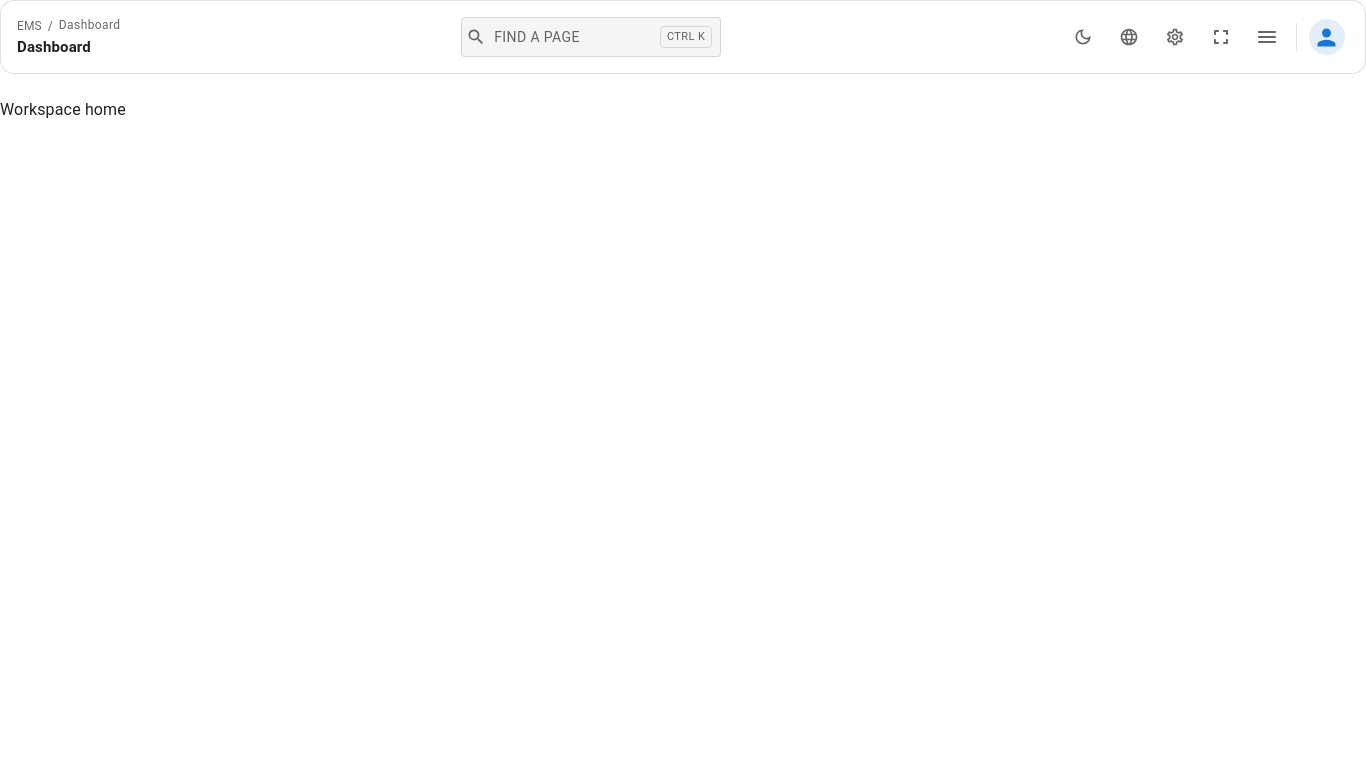
keyboard search filters real pages and navigates to the selected destination
Press k
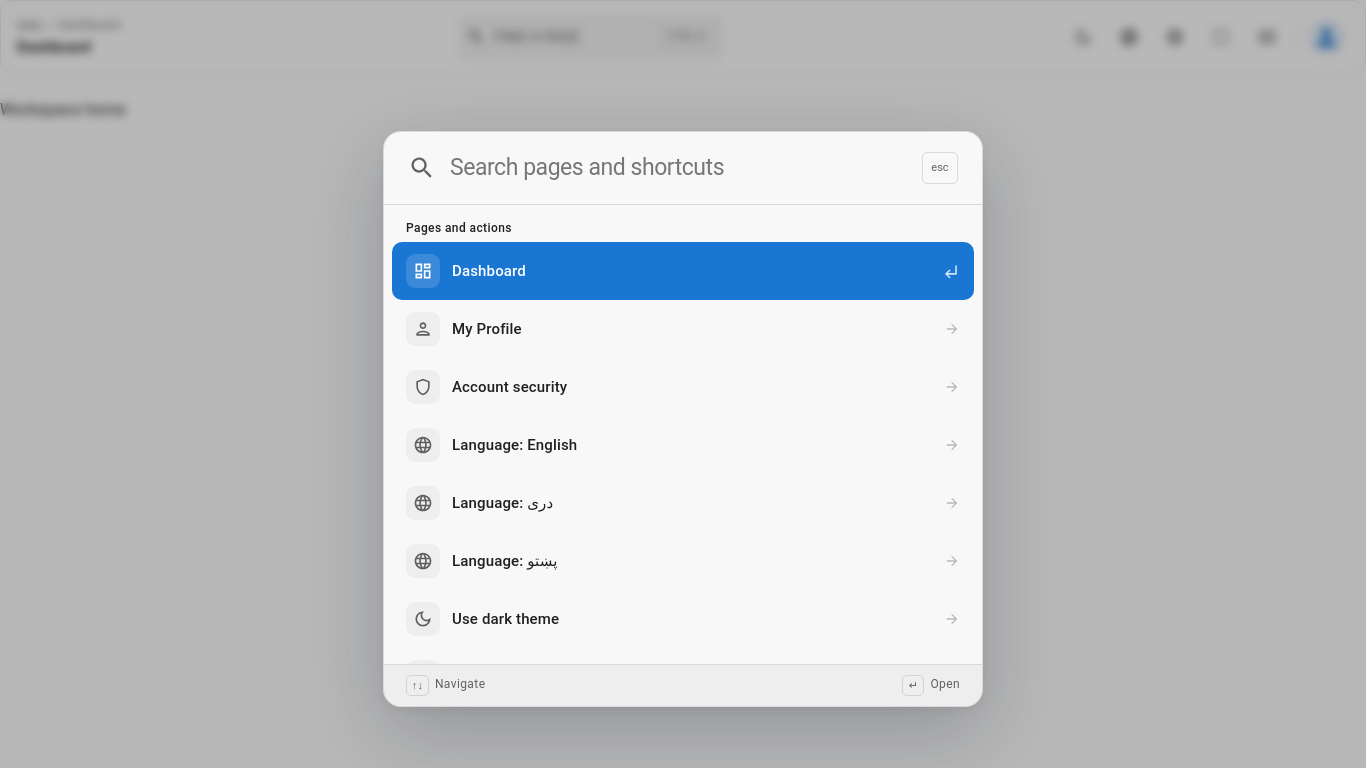
Type "nothing-matches" into the dropdown labelled "Search pages and shortcuts" at (679,168), box [450, 150, 908, 186]
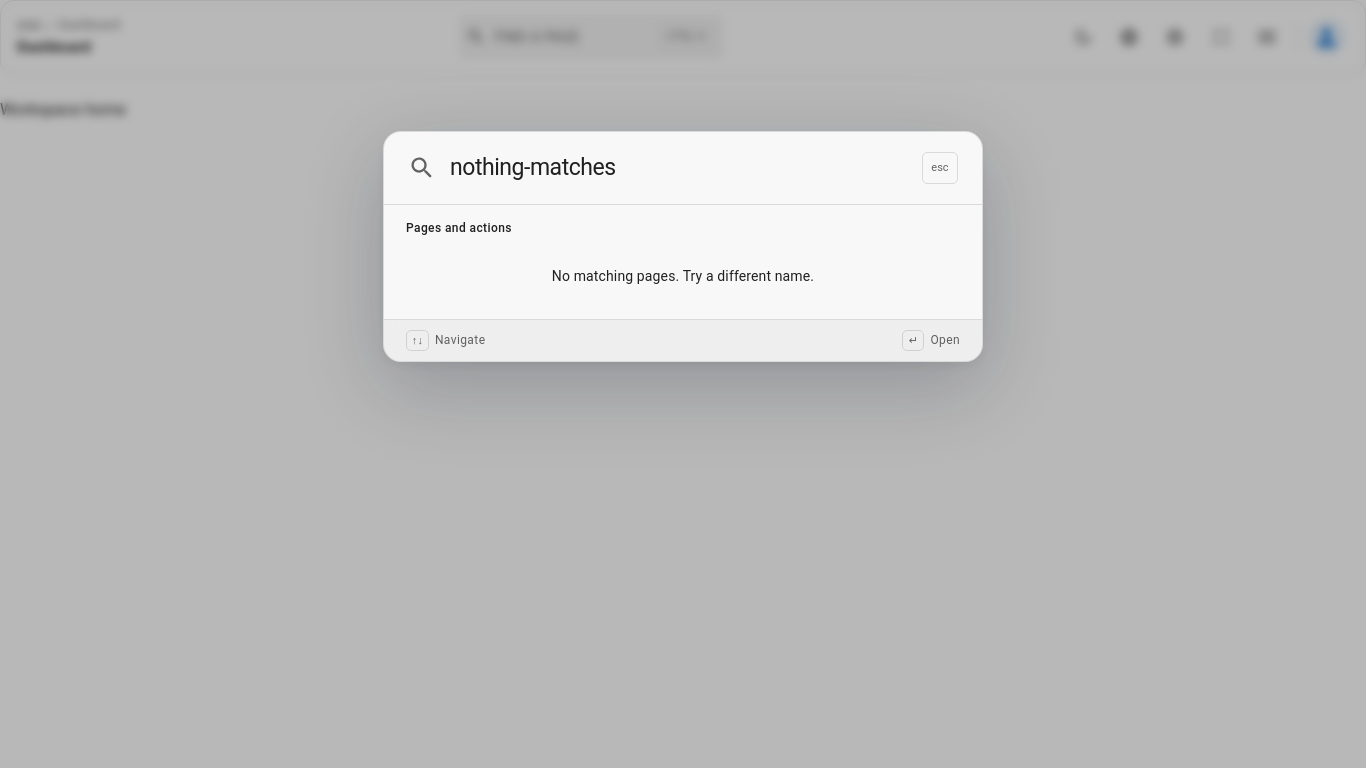
Result: the text "No matching pages. Try a different name." is shown at [552, 268, 814, 284]
Replace the text in the dropdown named "Search pages and shortcuts" with "profile" at (679,168), box [450, 150, 908, 186]
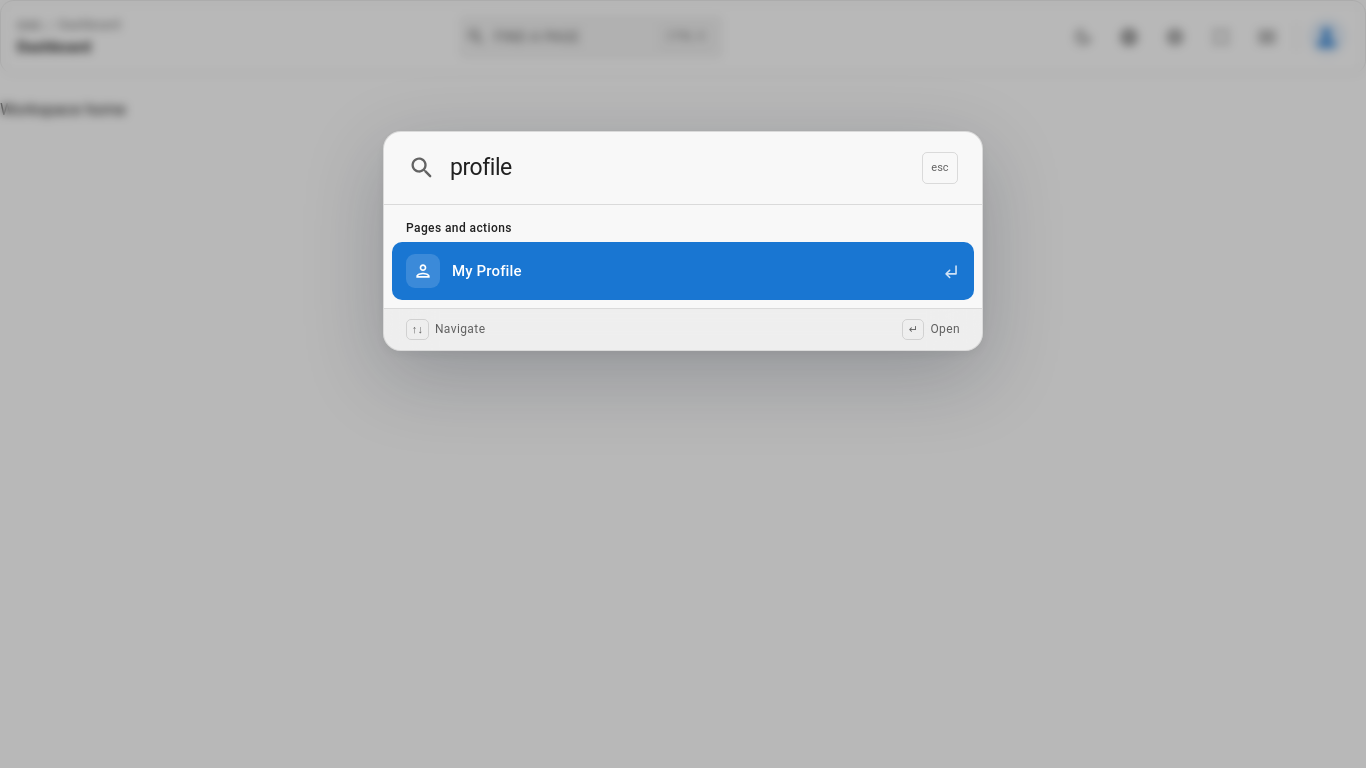
Press Enter in the dropdown named "Search pages and shortcuts", box [450, 150, 908, 186]
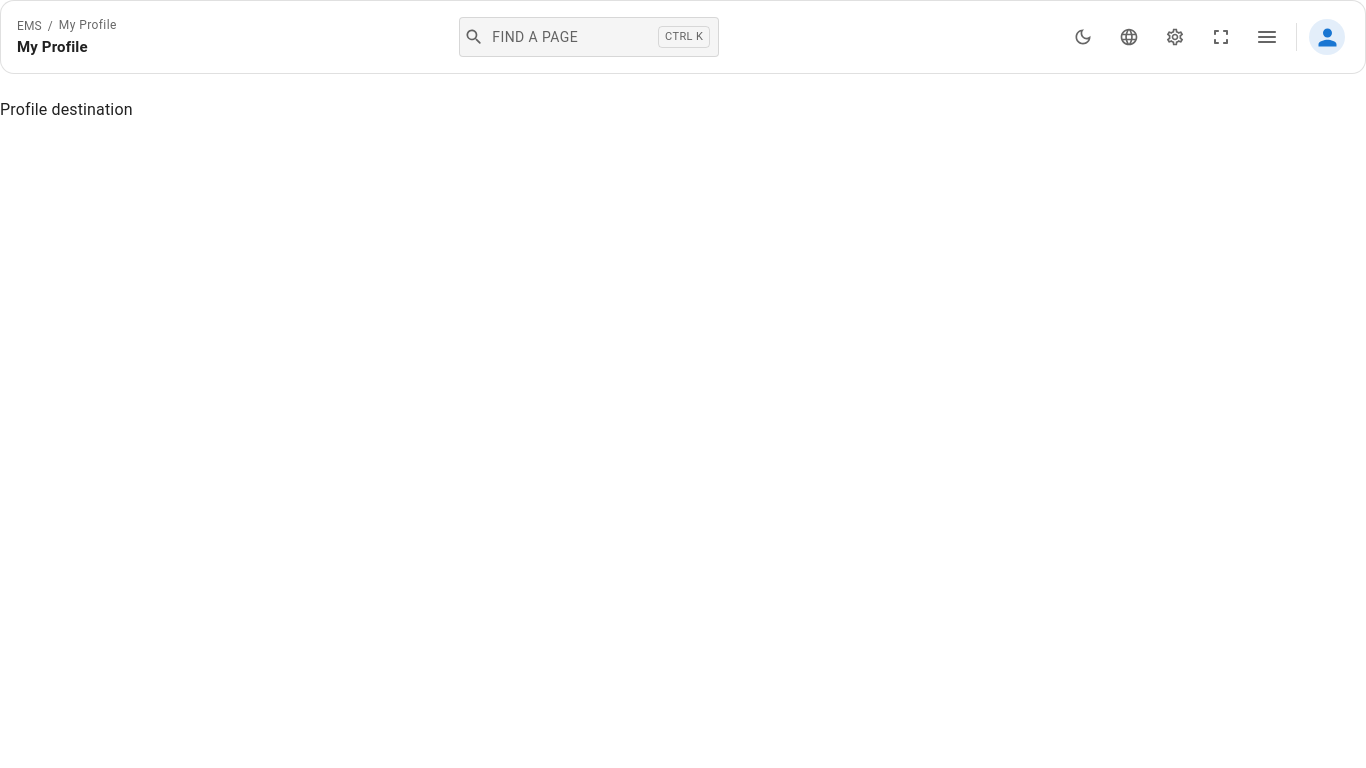
Result: the text "Profile destination" is shown at [0, 100, 133, 119]
